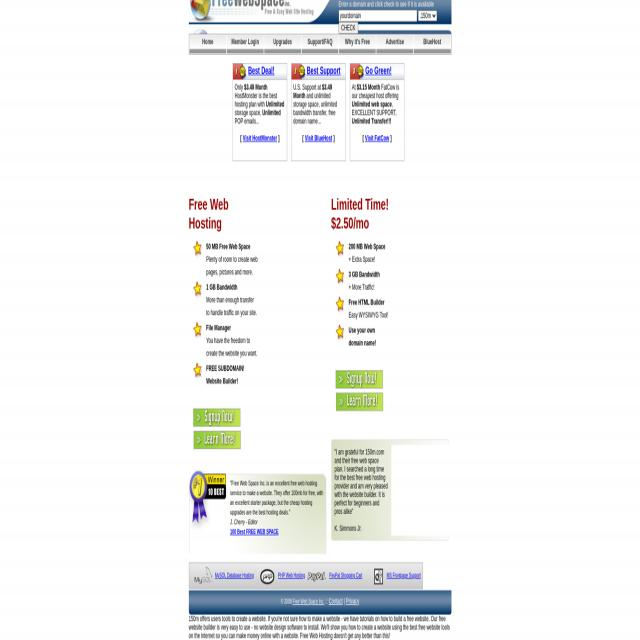button: (189, 0, 317, 25), (336, 392, 384, 410), (193, 408, 240, 426), (193, 431, 241, 448), (336, 371, 382, 388), (264, 34, 301, 52), (339, 35, 376, 53), (190, 35, 226, 53), (227, 35, 263, 53), (302, 35, 338, 53), (377, 35, 413, 53), (414, 35, 450, 53), (362, 563, 387, 588), (191, 563, 215, 588), (254, 563, 278, 588), (305, 563, 329, 588), (338, 22, 358, 34), (193, 240, 203, 258), (193, 282, 203, 300), (193, 322, 203, 340), (193, 362, 203, 380), (335, 240, 345, 258), (335, 268, 345, 286), (335, 296, 345, 314), (335, 324, 345, 342)
field: (339, 10, 417, 22), (418, 10, 437, 22)
